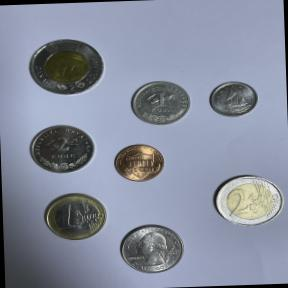coin: (21, 34, 110, 100), (207, 169, 288, 231), (24, 120, 96, 178), (116, 220, 188, 277), (37, 190, 111, 244), (109, 140, 168, 186), (204, 76, 262, 122)
